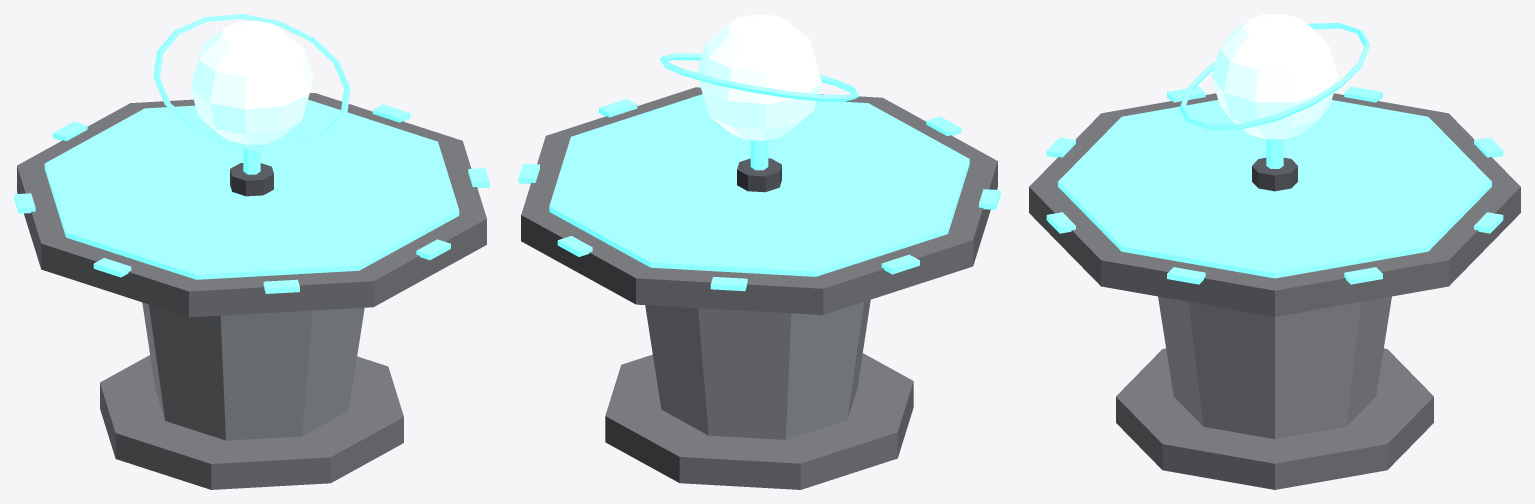
Rendered from SM_Holo_Table.glb.
3 renders of one model, left to right at view 1: azimuth 30°, elevation 25°; view 2: azimuth 150°, elevation 25°; view 3: azimuth 270°, elevation 25°, orthographic.
Visible parts, largest first — view 1: SM_Holo_Table; view 2: SM_Holo_Table; view 3: SM_Holo_Table.
Part boxes in pixels (x1,y1,x2,y2): SM_Holo_Table: (14,14,489,489); SM_Holo_Table: (518,14,1000,489); SM_Holo_Table: (1029,14,1520,489).
Size of the model in its own units: 1.7 by 1.54 by 1.7.
